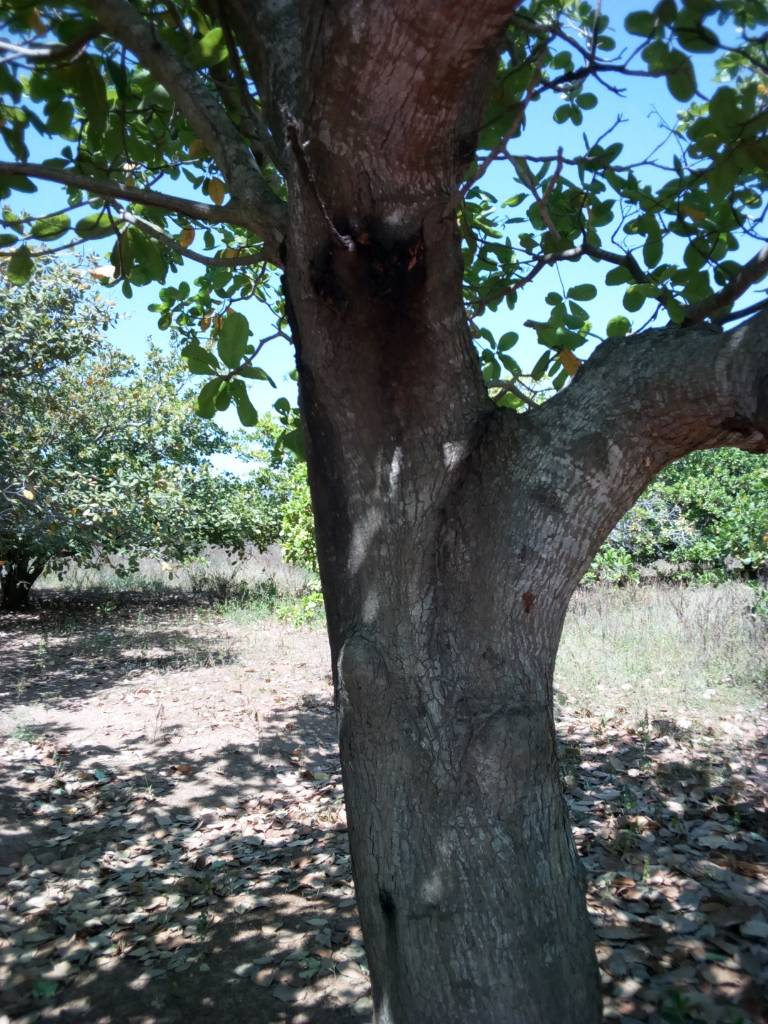Gommose: (299, 205, 447, 336), (310, 352, 338, 630)
